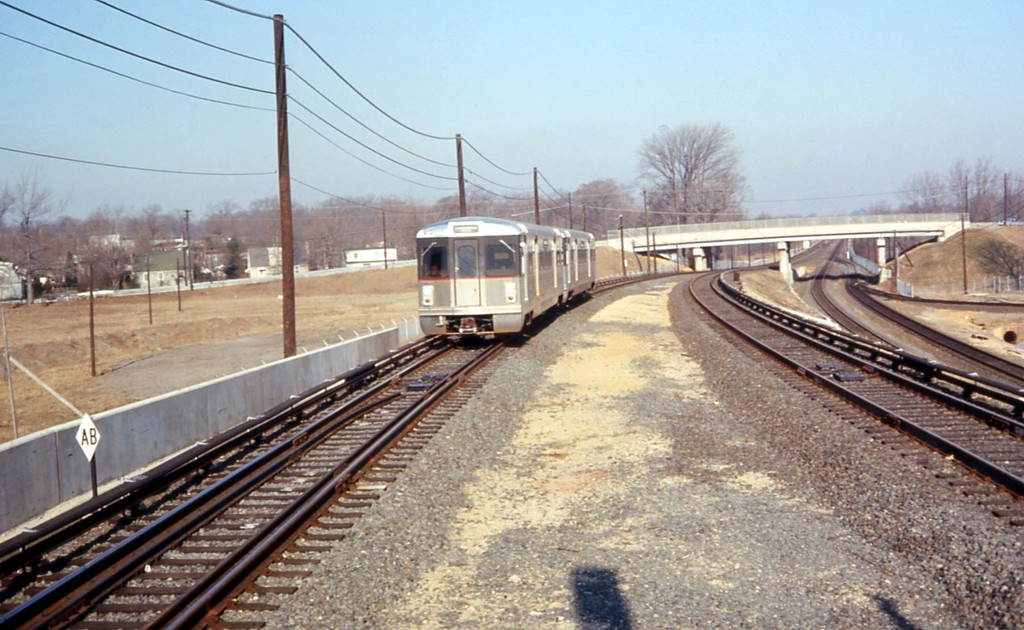train: (417, 220, 598, 338)
